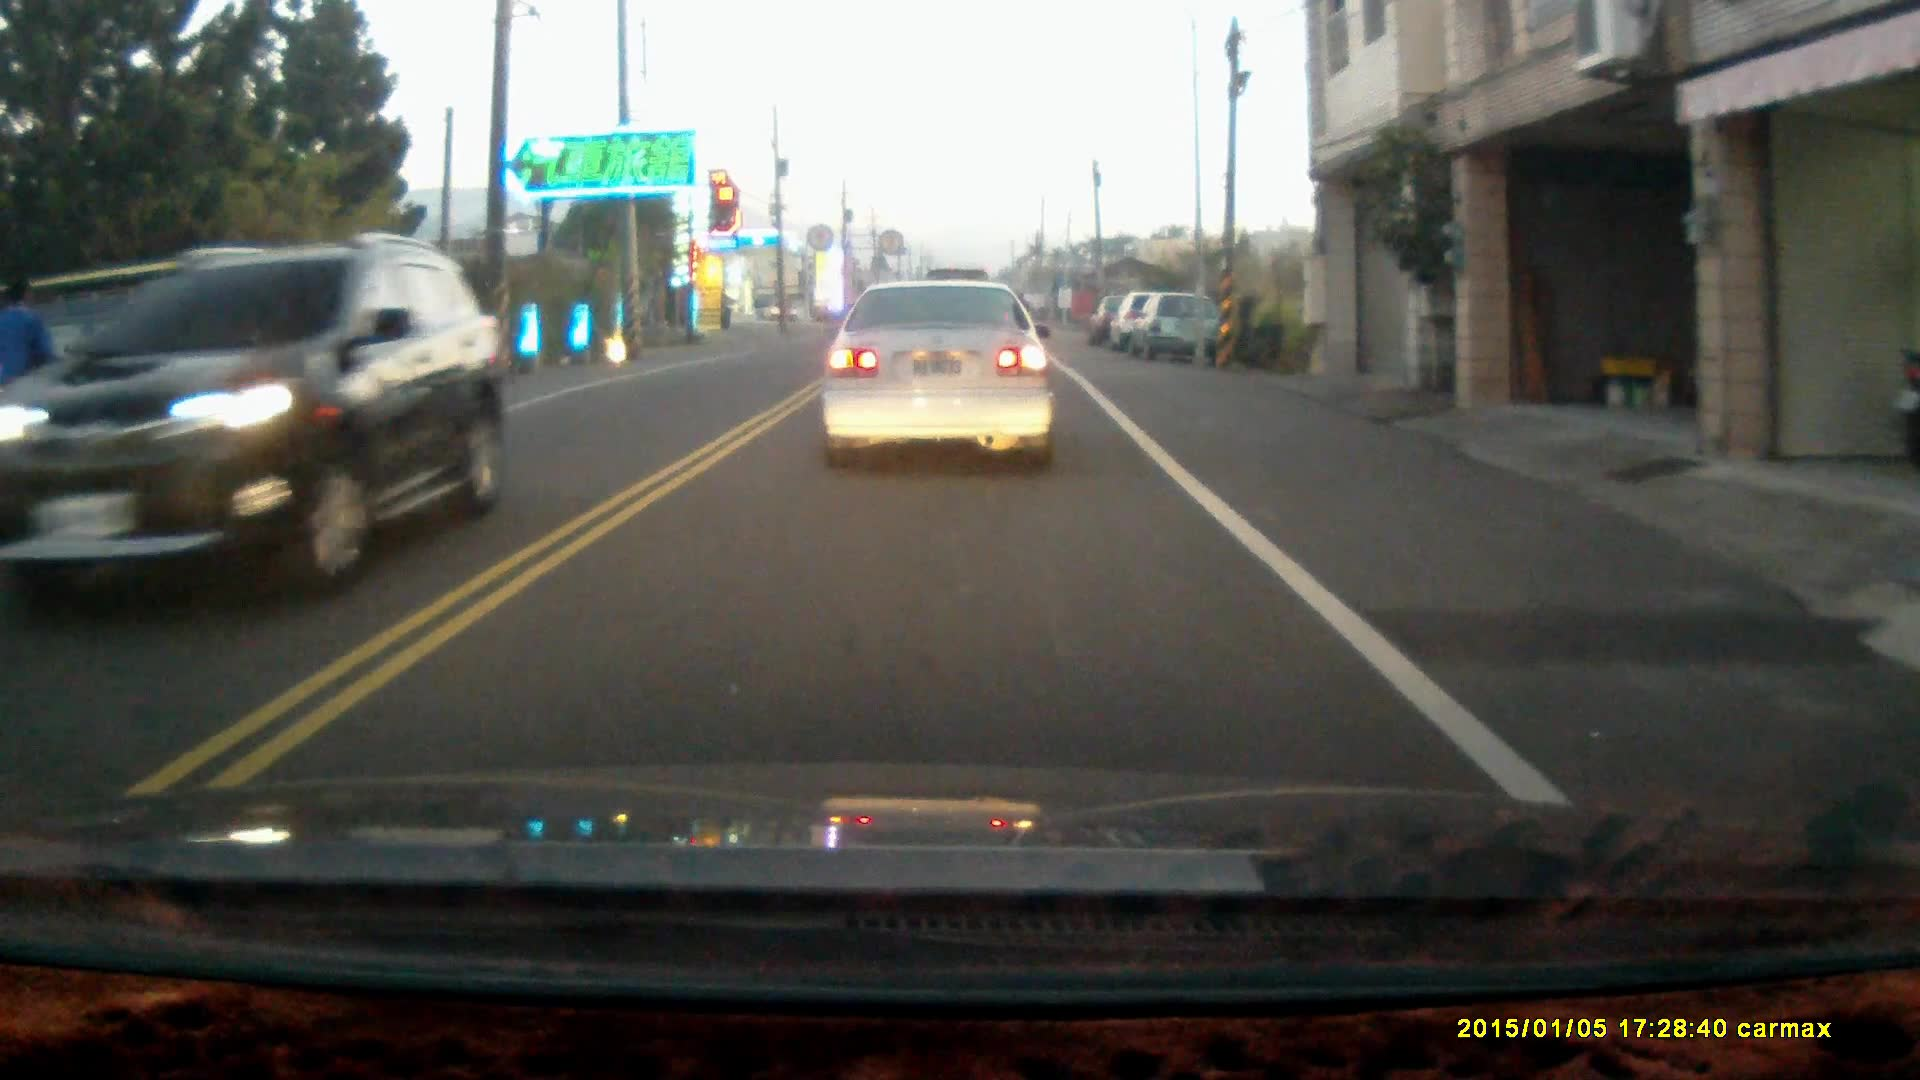pedestrian: (0, 276, 55, 483)
vehicle: (6, 233, 492, 593), (819, 279, 1056, 470), (1126, 294, 1221, 364), (1116, 293, 1194, 347)
